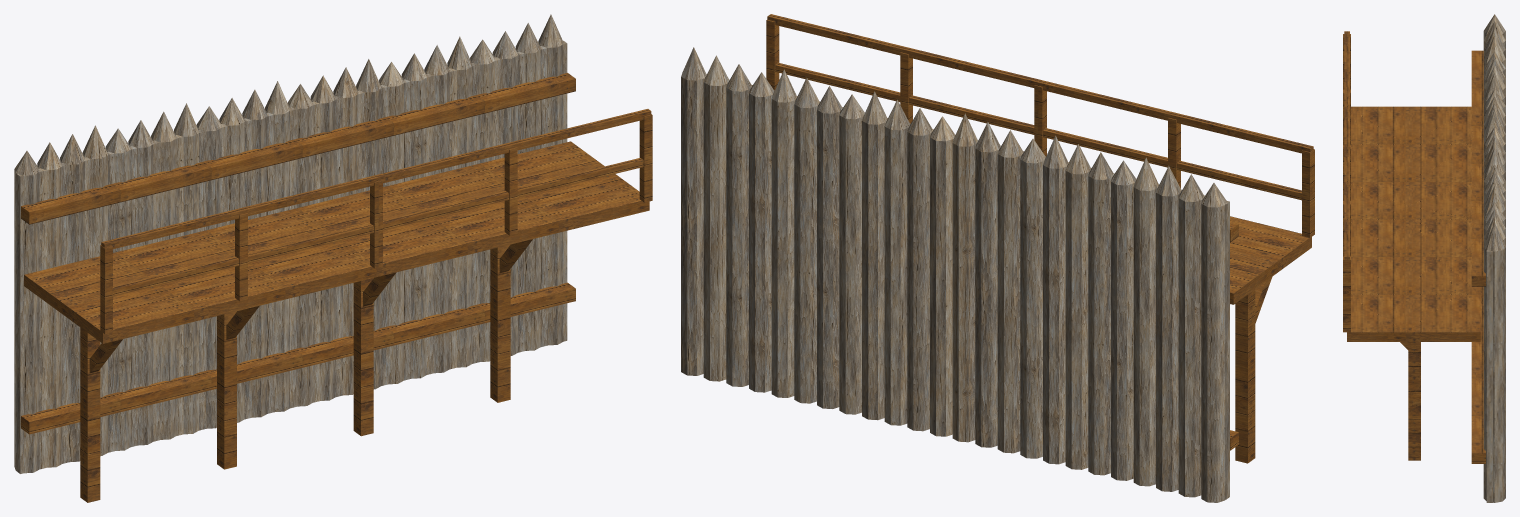
The model's file is frontier-stockade-6.gltf.
The picture shows the model from 3 angles, left to right: view 1: azimuth 30°, elevation 25°; view 2: azimuth 150°, elevation 25°; view 3: azimuth 270°, elevation 25°; orthographic projection. The views are drawn at different scales.
Visible parts, largest first — view 1: stockade-L0-log, walkway-L1-wood, structure-L0-wood, guards-L1-wood; view 2: stockade-L0-log, guards-L1-wood, walkway-L1-wood, structure-L0-wood; view 3: walkway-L1-wood, stockade-L0-log, structure-L0-wood, guards-L1-wood.
Part boxes in pixels (x1,y1,x2,y2): stockade-L0-log: (14, 14, 567, 473); walkway-L1-wood: (24, 141, 649, 343); structure-L0-wood: (21, 73, 575, 502); guards-L1-wood: (100, 109, 652, 334); stockade-L0-log: (681, 47, 1229, 502); guards-L1-wood: (766, 14, 1314, 237); walkway-L1-wood: (1230, 216, 1311, 304); structure-L0-wood: (1230, 222, 1272, 463); walkway-L1-wood: (1347, 106, 1480, 341); stockade-L0-log: (1483, 14, 1505, 502); structure-L0-wood: (1400, 50, 1485, 463); guards-L1-wood: (1343, 31, 1350, 332).
Bounding box in the file's own units: 6.01 × 3.42 × 1.83.
2 materials, 2 textured.
